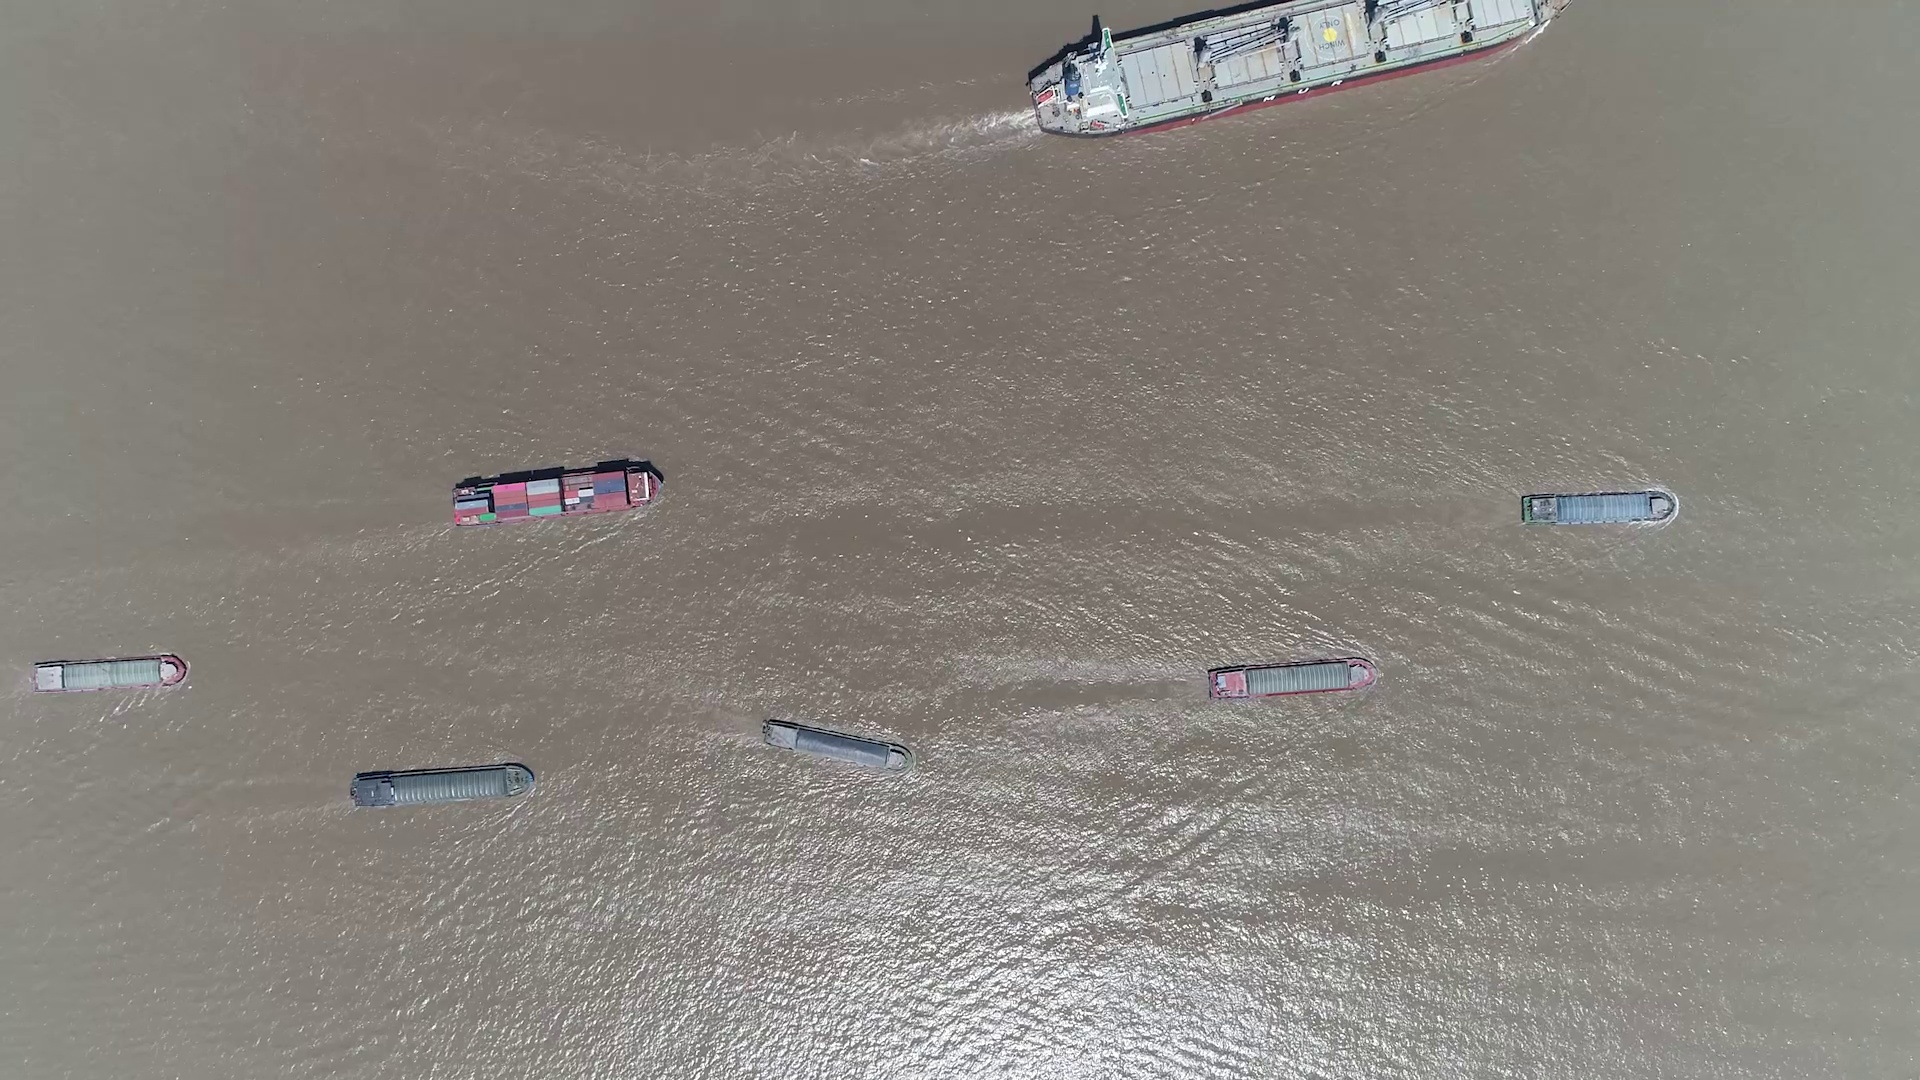ship: (1026, 4, 1557, 138), (450, 462, 662, 527), (760, 717, 913, 774), (352, 764, 535, 808), (1207, 658, 1377, 702), (30, 655, 187, 692), (1519, 491, 1677, 525)
